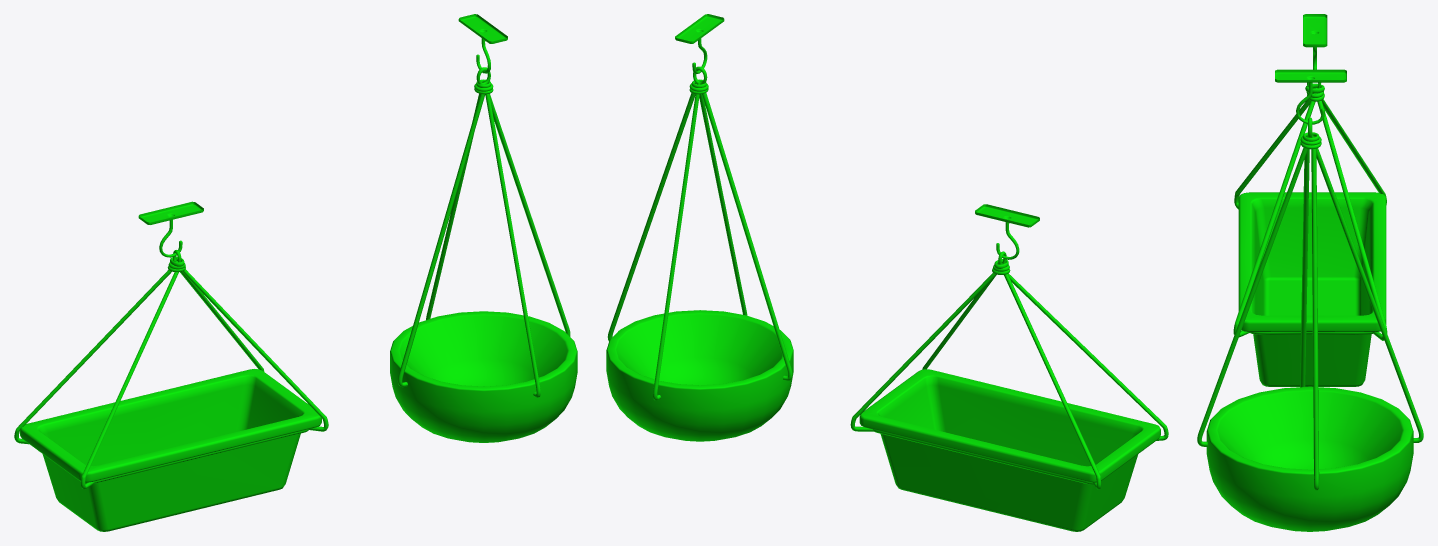
File: greenhouse_hanging_planters_v1.fbx
3 renders of one model, left to right at view 1: azimuth 30°, elevation 25°; view 2: azimuth 150°, elevation 25°; view 3: azimuth 270°, elevation 25°, orthographic. The views are drawn at different scales.
Visible parts, largest first — view 1: hanging_planter_rectangular, hanging_planter_round, mounted_hook_01, mounted_hook_02; view 2: hanging_planter_rectangular, hanging_planter_round, mounted_hook_01, mounted_hook_02; view 3: hanging_planter_round, hanging_planter_rectangular, mounted_hook_02, mounted_hook_01.
Part boxes in pixels (x1,y1,x2,y2): hanging_planter_rectangular: (14,250,328,531); hanging_planter_round: (390,67,577,442); mounted_hook_01: (138,201,203,257); mounted_hook_02: (458,14,507,73); hanging_planter_rectangular: (850,251,1168,531); hanging_planter_round: (606,66,793,441); mounted_hook_01: (975,204,1039,259); mounted_hook_02: (675,14,724,73); hanging_planter_round: (1197,117,1423,531); hanging_planter_rectangular: (1233,82,1387,386); mounted_hook_02: (1275,69,1346,124); mounted_hook_01: (1303,14,1327,69).
Bounding box in the file's own units: 256 × 183 × 86.64.
